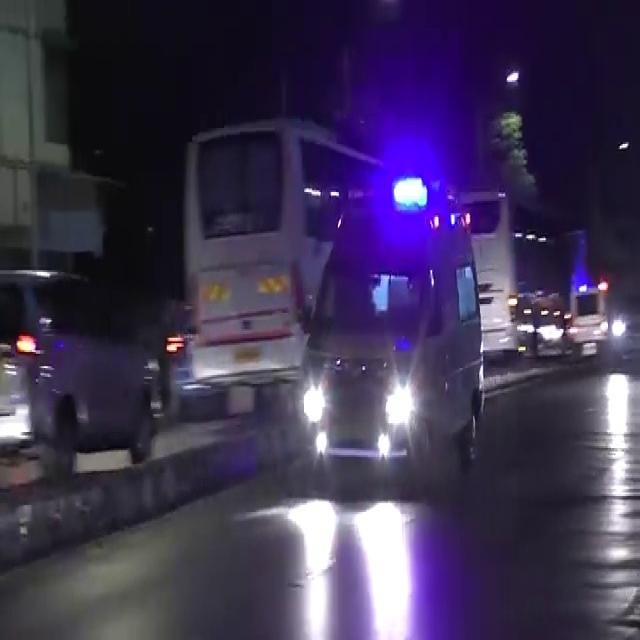ambulance: (306, 147, 486, 465)
